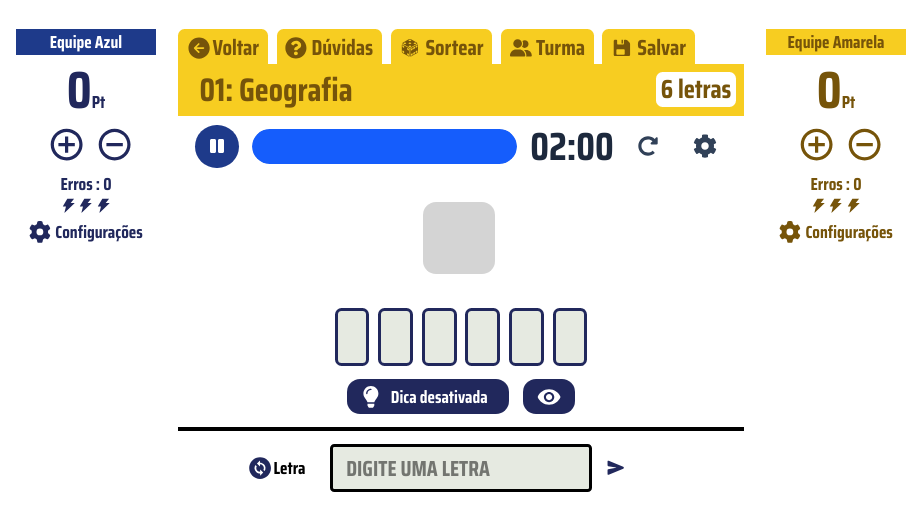
Test: PQuiz › deve alternar para modo palavra
Click the button "Letra" at (276, 468), box [239,455,314,481]
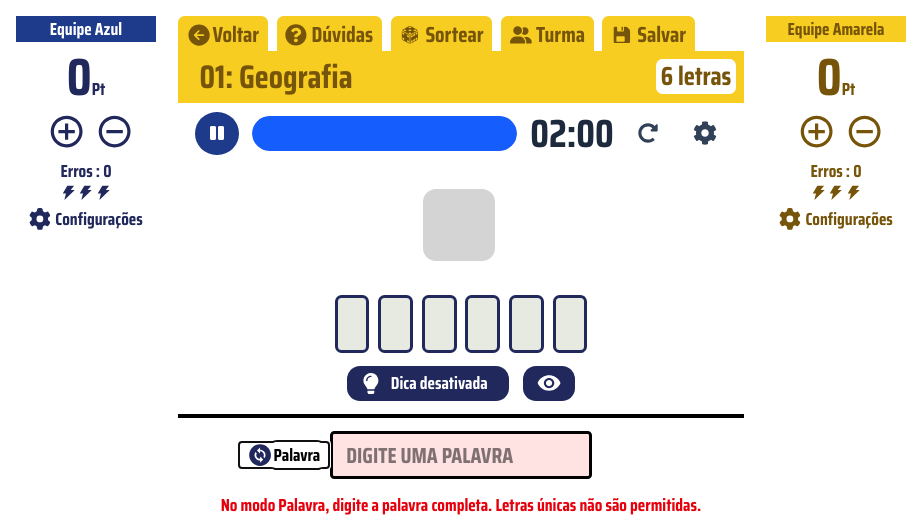
Expected: the field with placeholder "Digite uma palavra" is shown, [330,431,592,479]
